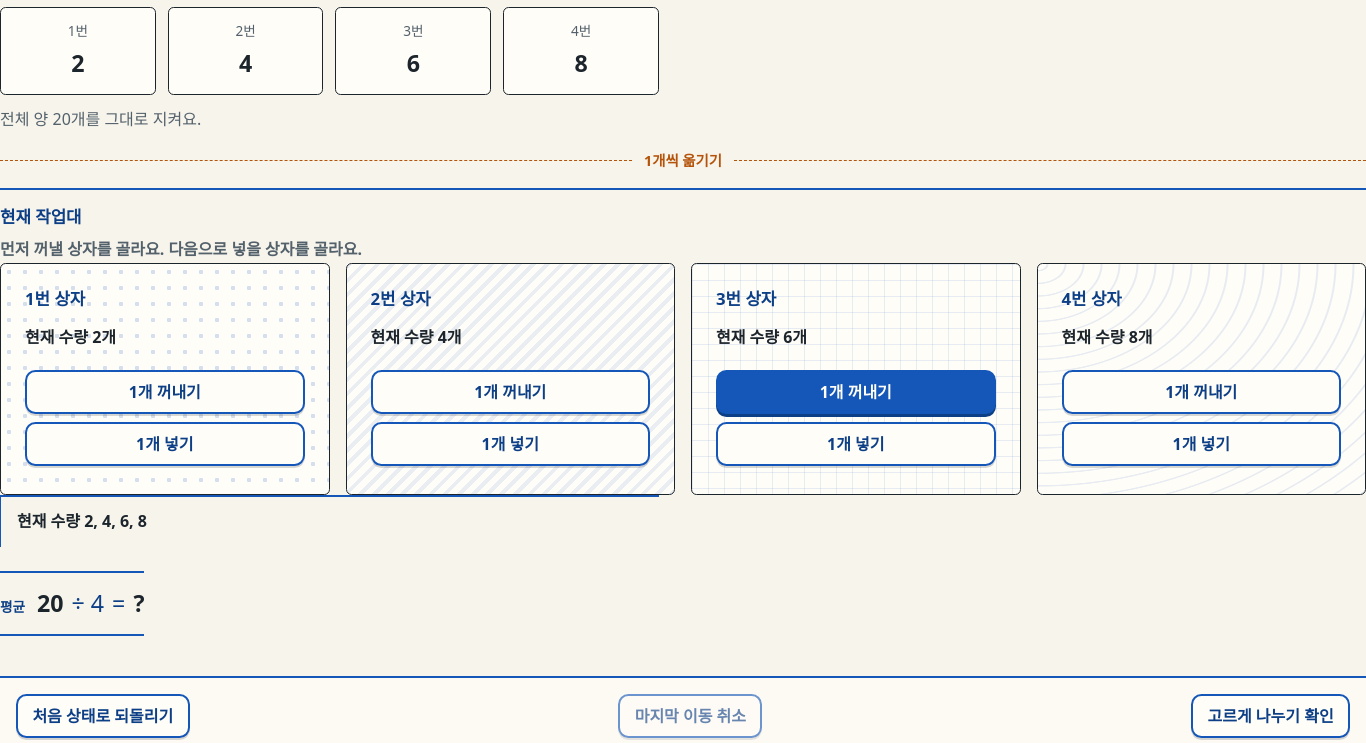
Scenario: RedistributionPanel › undoes the latest successful move
(page scrolled)
Click the button with aria-label "4번 상자에서 1개 꺼내기" at [1201, 392], box [1062,370,1341,414]
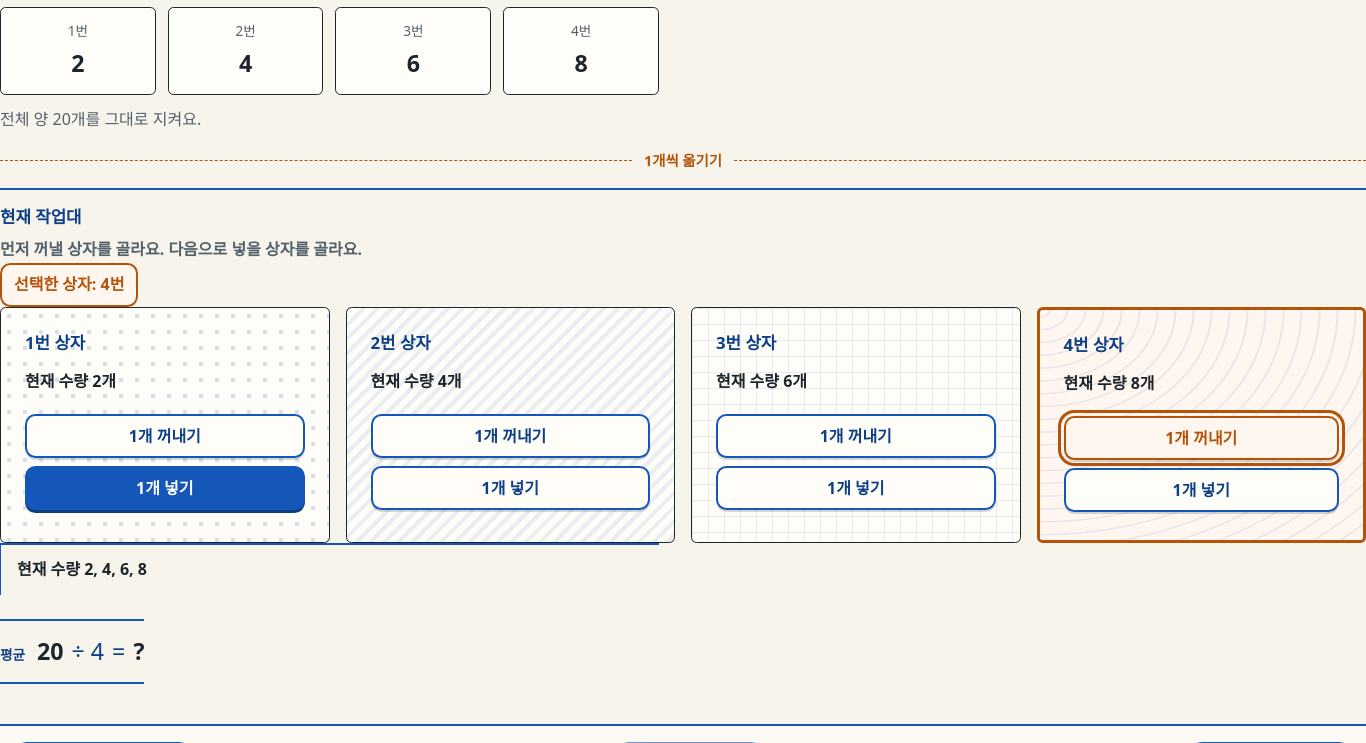
Click the button with aria-label "1번 상자에 1개 넣기" at [165, 488], box [25,466,304,510]
(page scrolled)
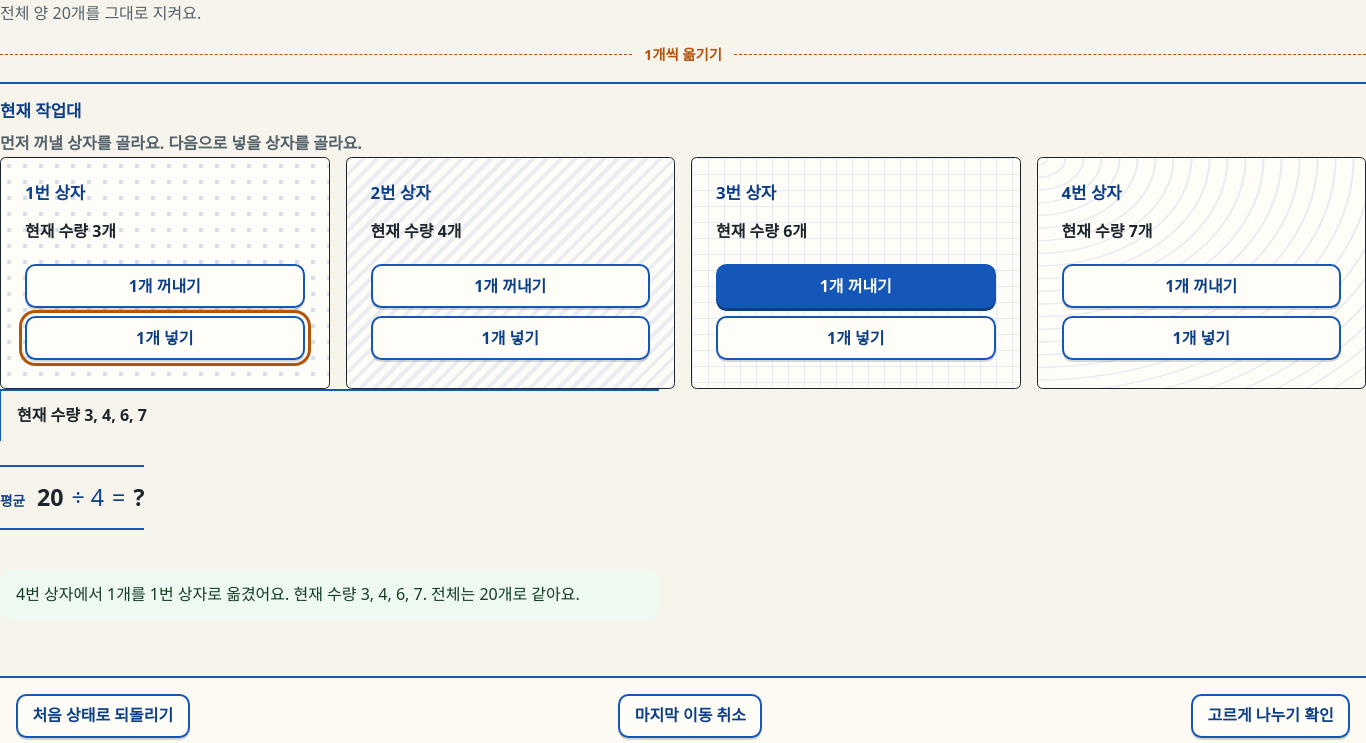
Click the button "마지막 이동 취소" at [690, 716], box [618,694,762,738]
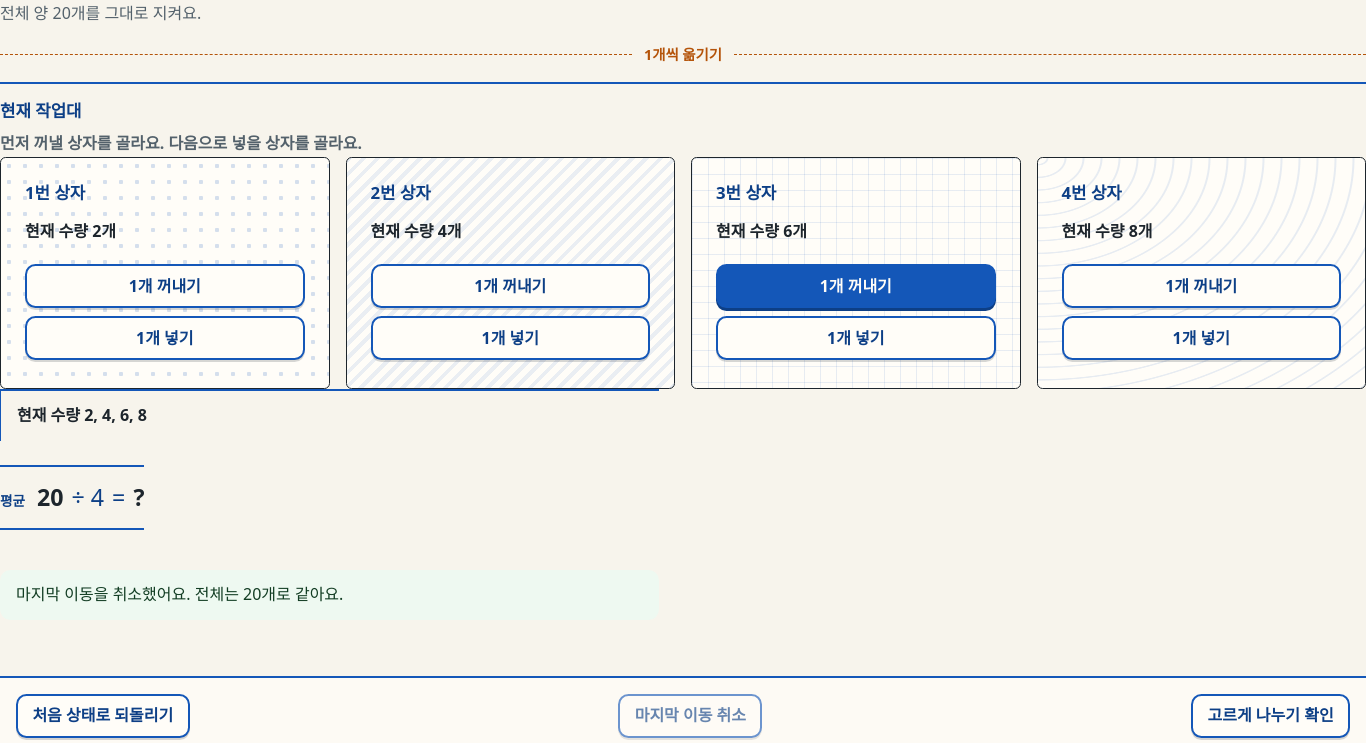
Now the text "현재 수량 2, 4, 6, 8" is shown, box [0,390,659,441]
Now the message reads "마지막 이동을 취소했어요. 전체는 20개로 같아요.", box [16,583,343,605]
